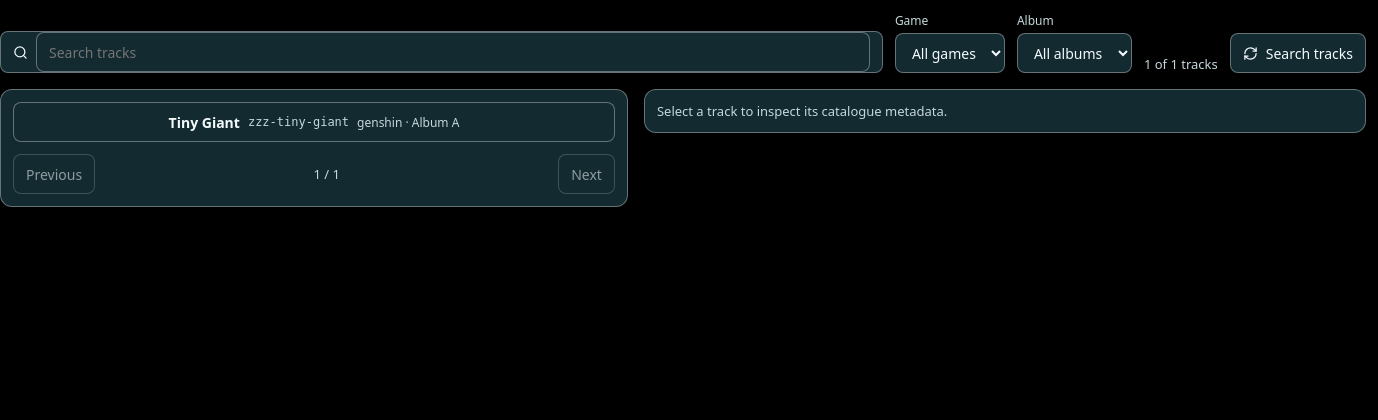
CatalogueTrackBrowser › shows the current catalogue state for the selected track
The width and height of the screenshot is (1378, 420).
What coordinates should you click on to do the following:
click the button "Tiny Giant zzz-tiny-giant genshin · Album A"
I would click on:
 (314, 122)
Its box is [13, 102, 615, 142].
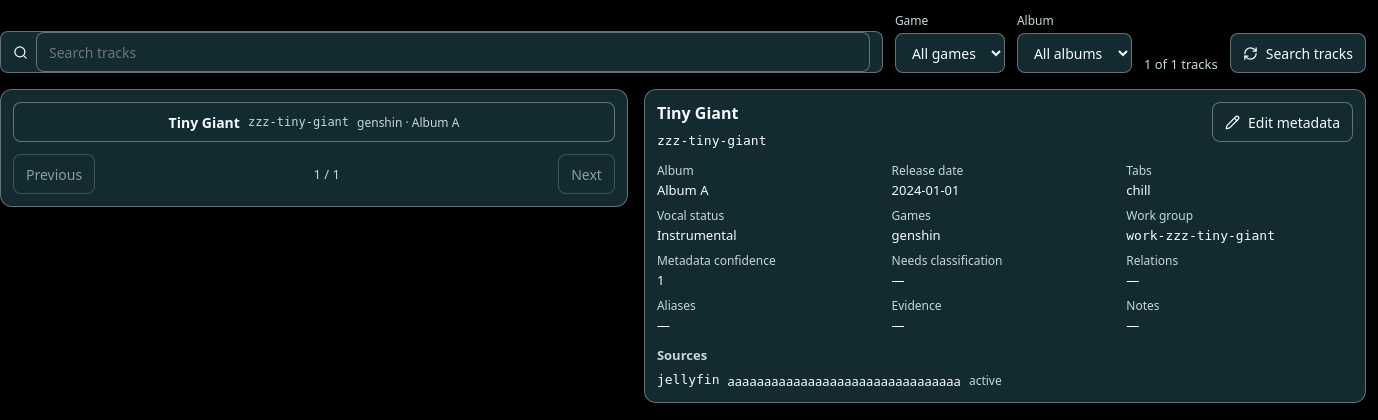
Expected: the element that starts with "Tiny Giant" is shown, [657, 102, 738, 124]
Expected: the element that starts with "Tiny Giant" shows "zzz-tiny-giant", [657, 133, 766, 148]
Expected: the element that starts with "Tiny Giant" shows "chill", [1126, 181, 1151, 199]
